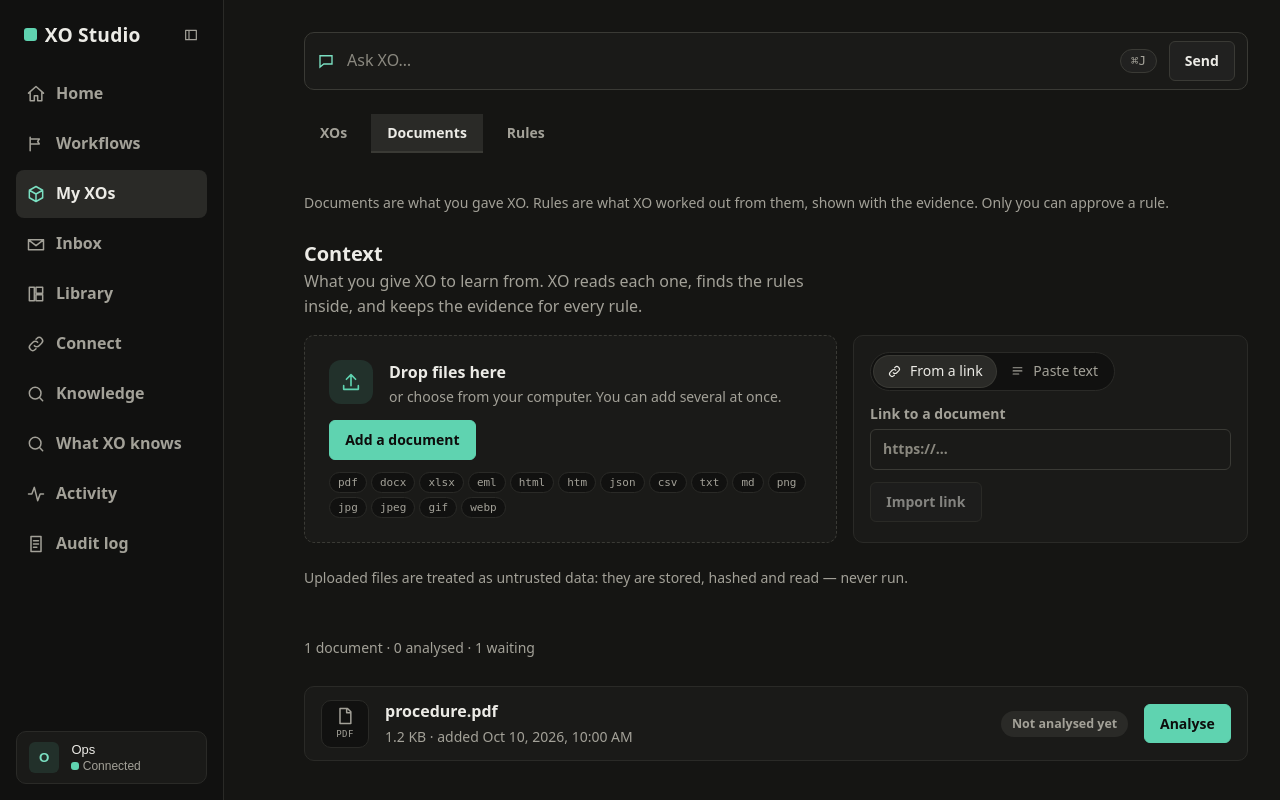
starting a process (workflow runtime) › work that sends or changes things prepares a preview for a reviewer instead of starting
Earlier steps of the test are not shown.
Step 1. Click the button "Analyse" → point(1187, 724), box [1144,704,1231,743]
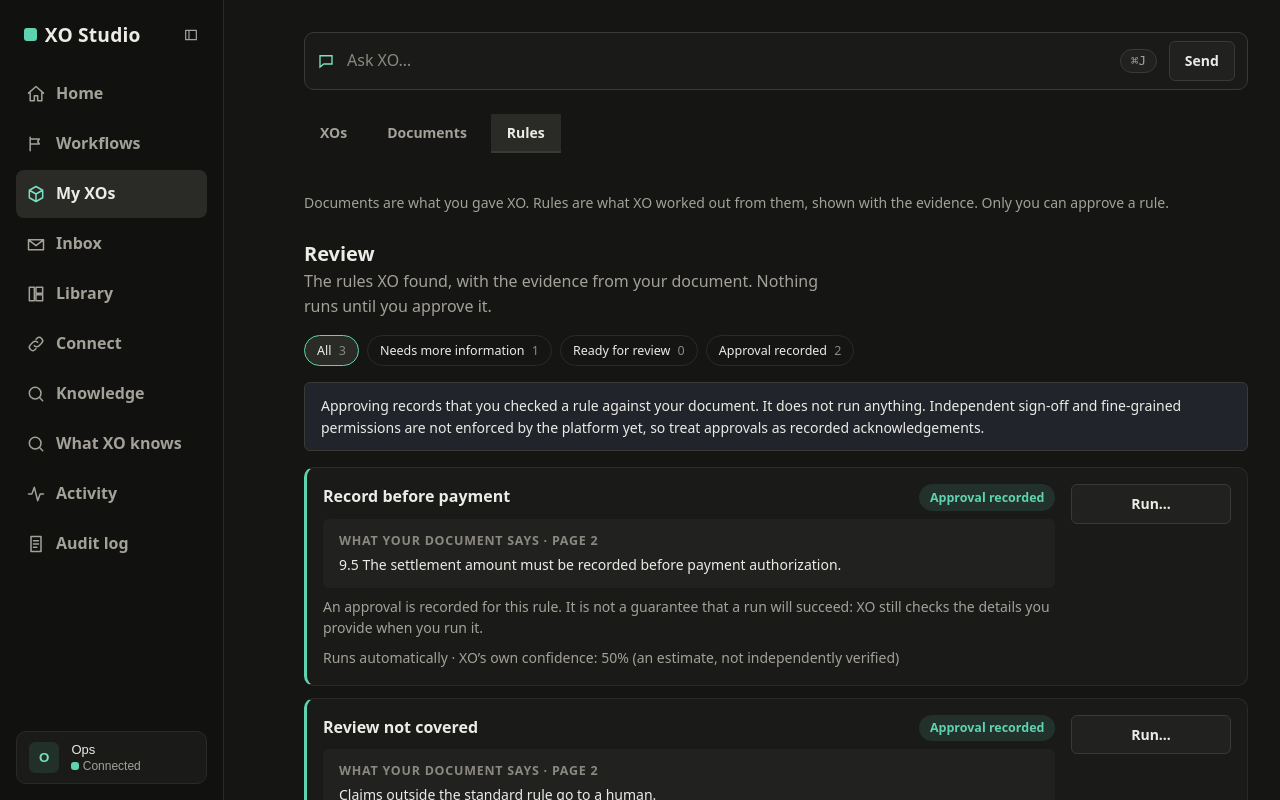
Result: the text "settlement amount must be recorded" is shown at [339,555,841,574]
Step 2. Click the button "Workflows" → point(112, 144), box [16,120,207,168]
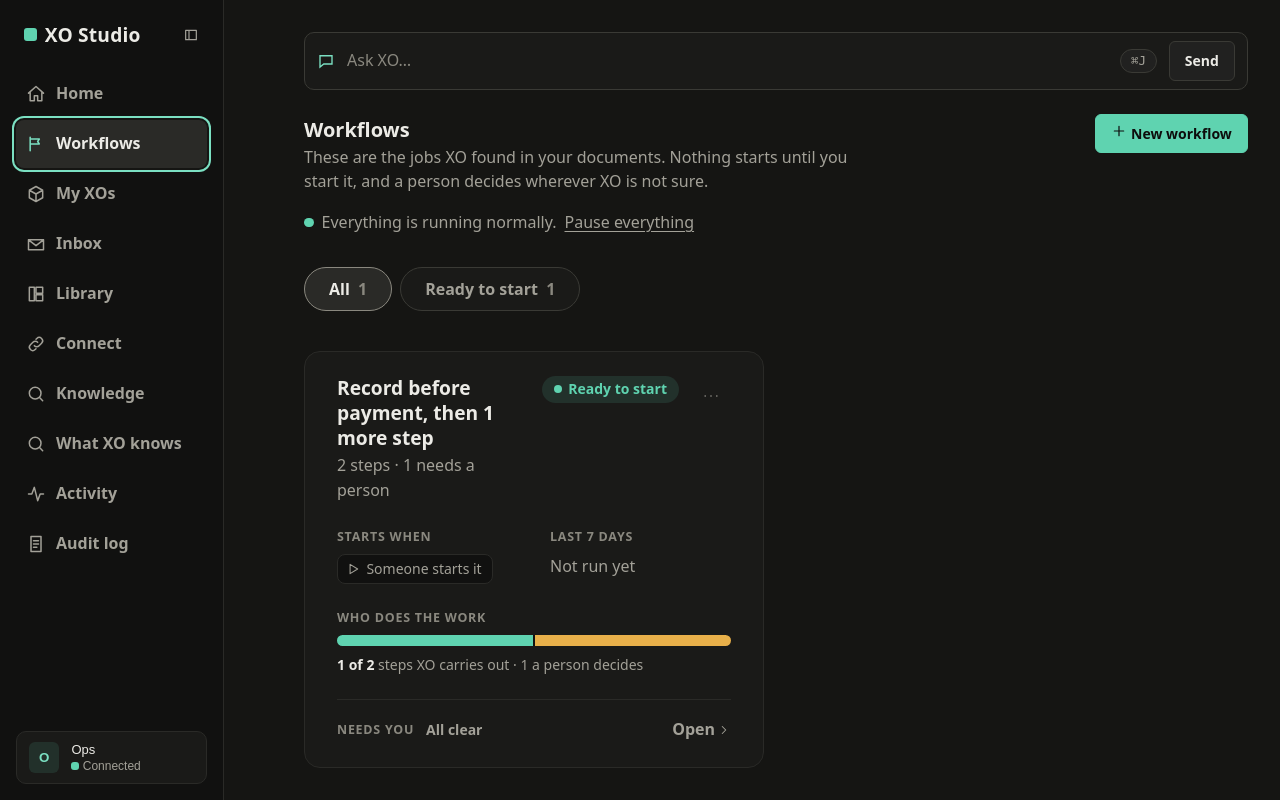
Result: the button "Record before payment, then 1 more step" is shown
Step 3. Click the button "Record before payment, then 1 more step" → point(433, 414), box [337,376,530,451]
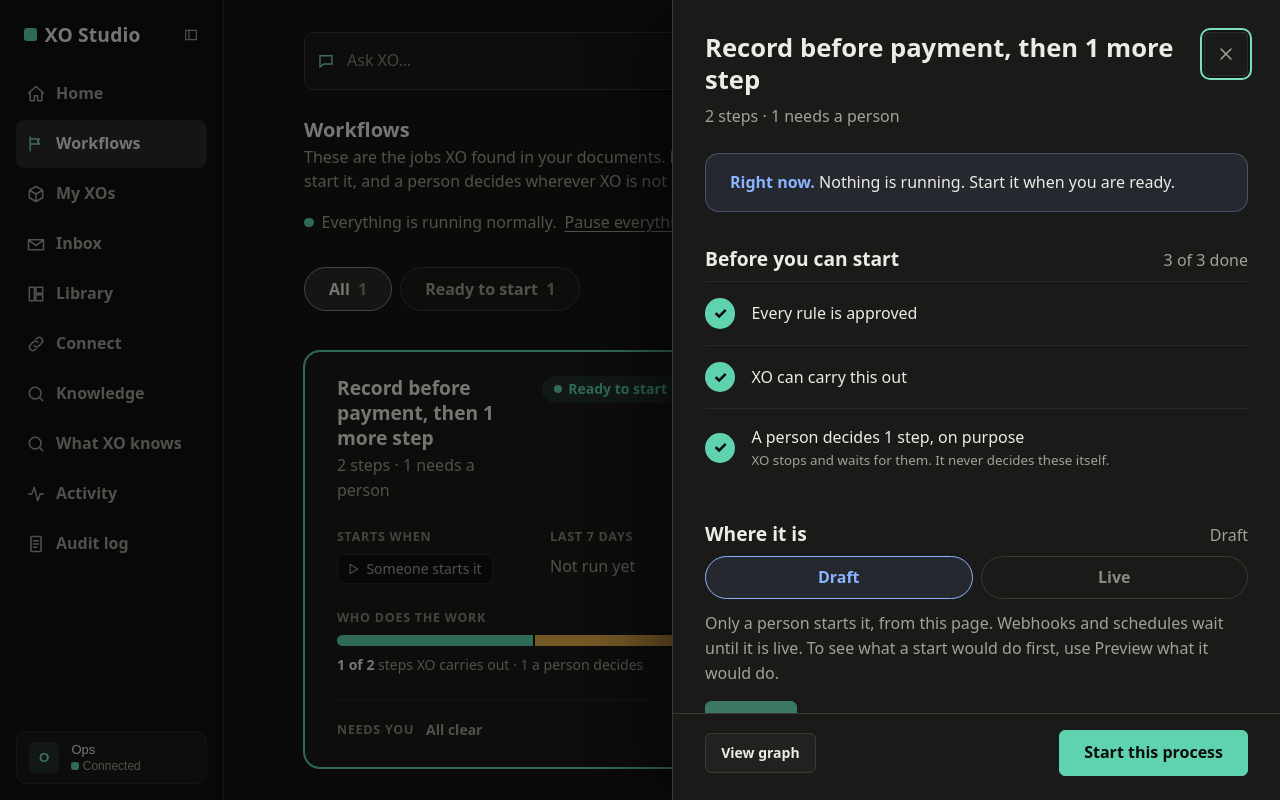
Result: the dialog is shown at [672,0,1279,799]
Step 4. Click the button "Start this process" → point(1154, 753), box [1059,730,1248,776]
(page scrolled)
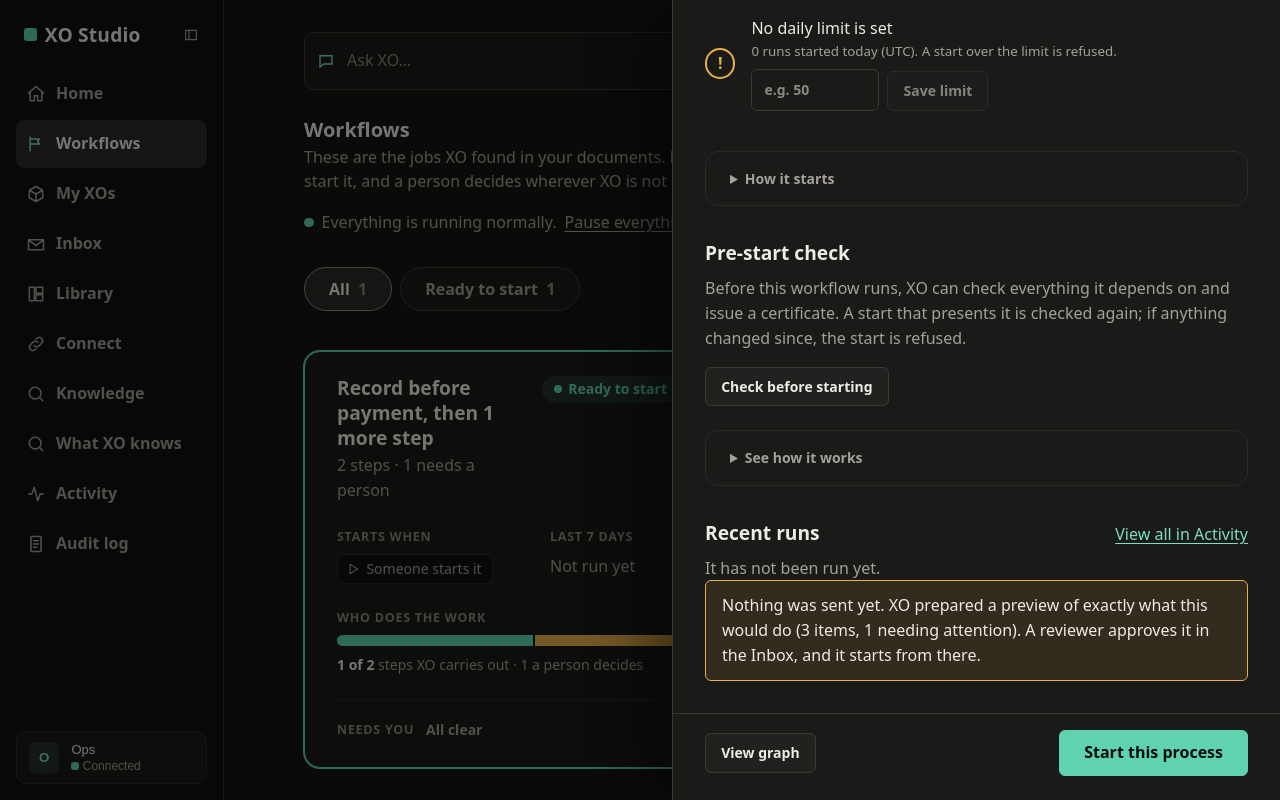
Result: the text "Nothing was sent yet. XO prepared a preview" is shown at [722,594,1209,666]
